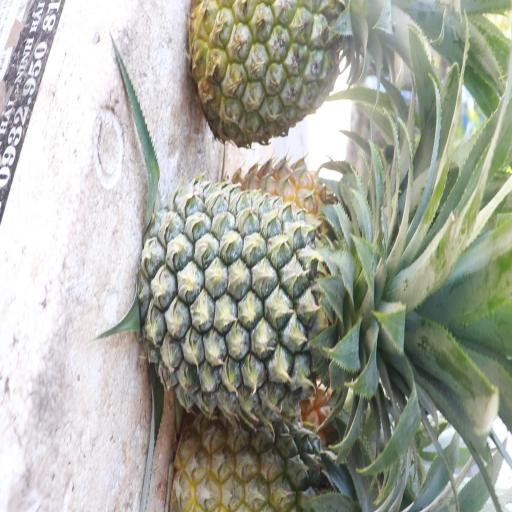------------------------------: (189, 0, 355, 151), (174, 409, 360, 512)
